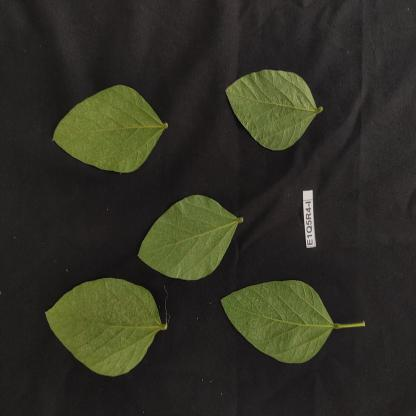label: (298, 188, 332, 257)
leaflets: (46, 78, 200, 180), (216, 269, 349, 381), (42, 267, 170, 381), (128, 187, 252, 286), (212, 62, 336, 150)
